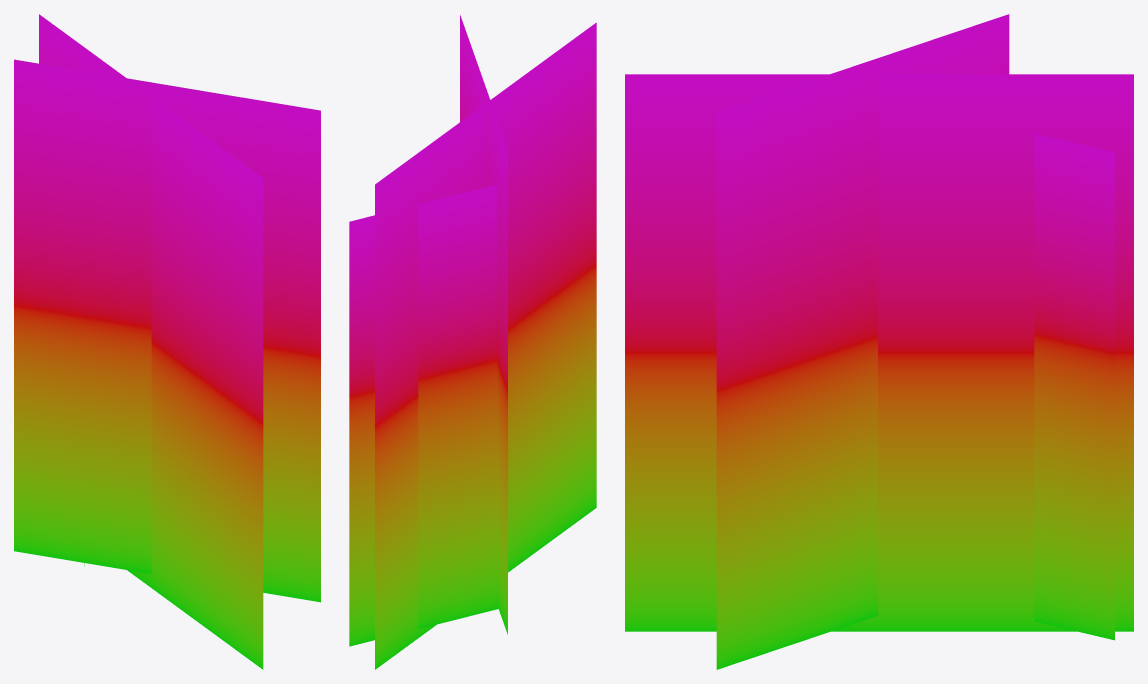
File: Grass_02.fbx
The picture shows the model from 3 angles, left to right: view 1: azimuth 30°, elevation 25°; view 2: azimuth 150°, elevation 25°; view 3: azimuth 270°, elevation 25°; orthographic projection. The views are drawn at different scales.
Parts seen in each view (by area): view 1: Grass_11; view 2: Grass_11; view 3: Grass_11.
Boxes of the visible parts, box(x1,y1,x2,y2) form: Grass_11: box(14, 14, 320, 669); Grass_11: box(349, 15, 596, 669); Grass_11: box(625, 14, 1133, 669).
Bounding box in the file's own units: 0.3634 × 0.9887 × 0.7949.
